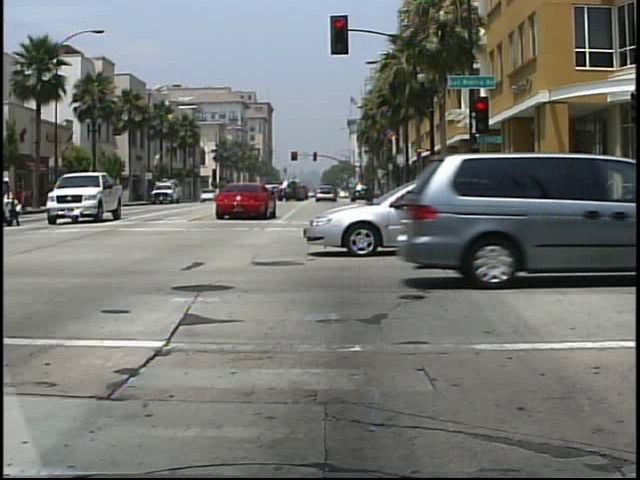person: (3, 172, 27, 228)
